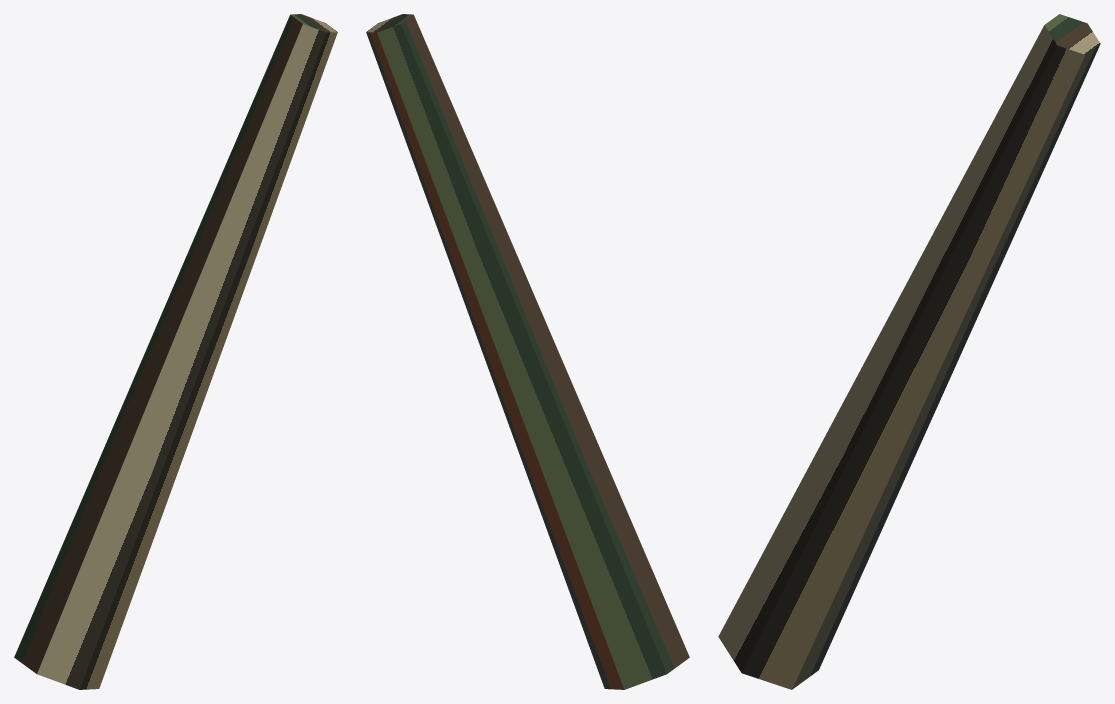
Rendered from treeBranches.obj.
The picture shows the model from 3 angles, left to right: view 1: azimuth 30°, elevation 25°; view 2: azimuth 150°, elevation 25°; view 3: azimuth 330°, elevation 25°; orthographic projection. The views are drawn at different scales.
Visible parts, largest first — view 1: treeBranches; view 2: treeBranches; view 3: treeBranches.
Part boxes in pixels (<box>): treeBranches: <box>14,14,337,689</box>; treeBranches: <box>366,14,689,689</box>; treeBranches: <box>718,14,1100,689</box>.
Bounding box in the file's own units: 0.9273 × 1.77 × 0.24.
1 material, 1 textured.
